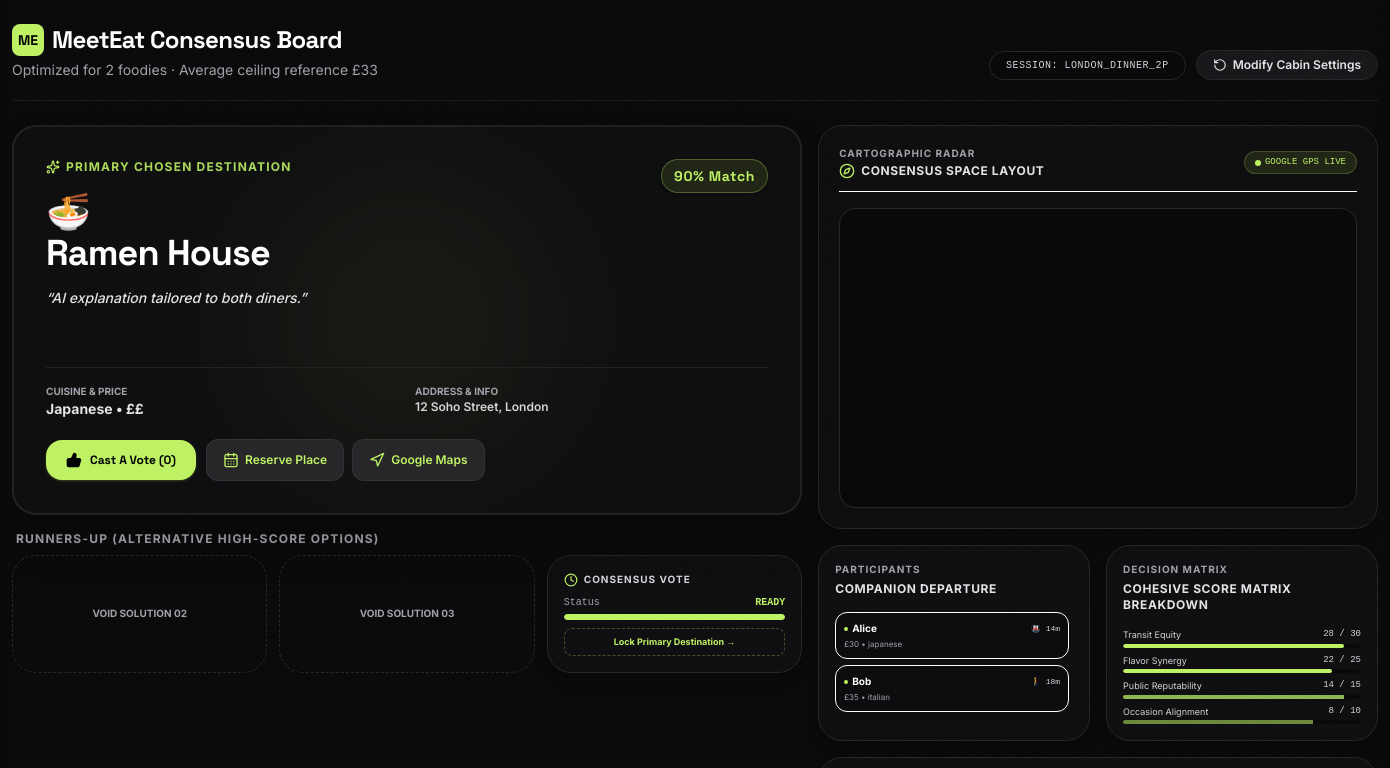
Test case: ResultsScreen › prevents duplicate submissions while a vote is pending
Click the button "Cast A Vote (0)" at [121, 460], box [46,440,196,480]
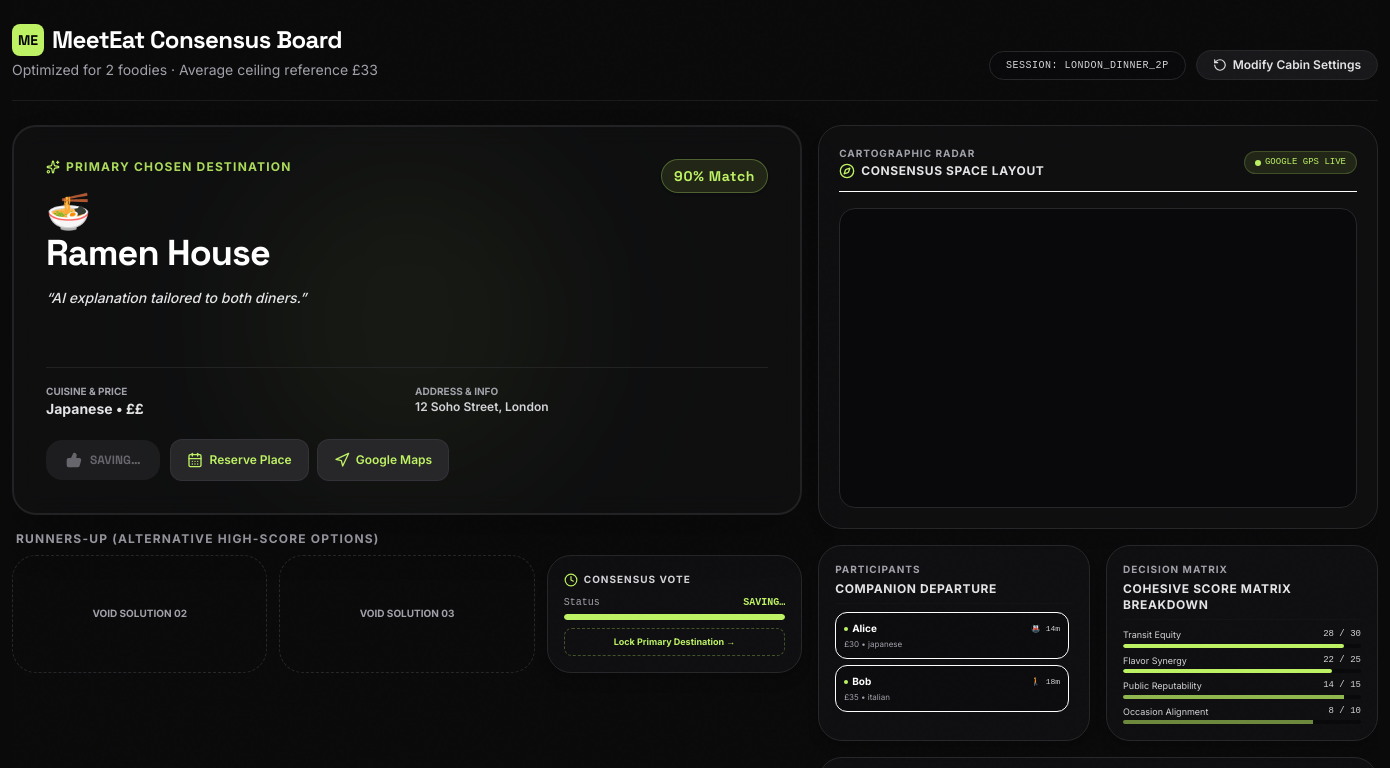
Click the button named "Vote (0)" at [103, 460], box [46,440,160,480]
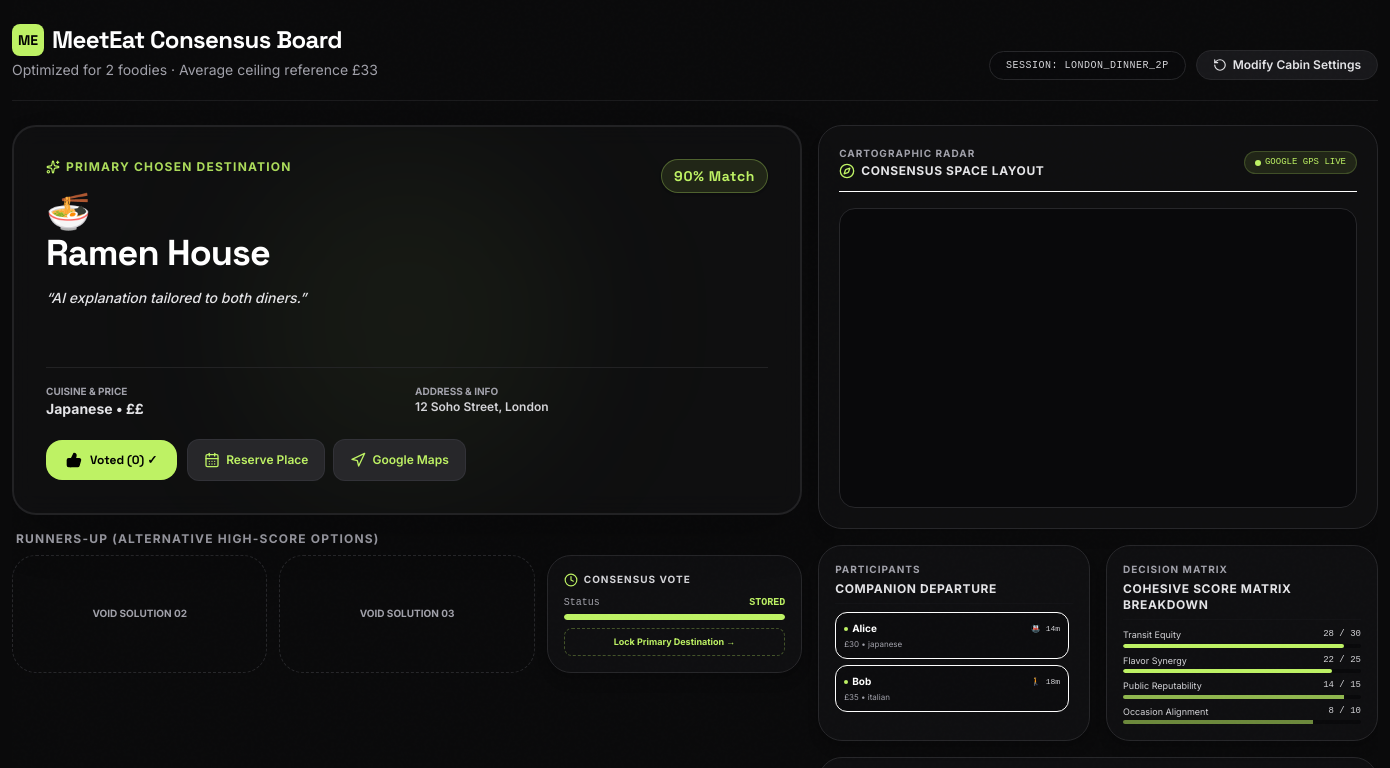
expect the text "STORED" is shown: met, box [749,595,785,610]
